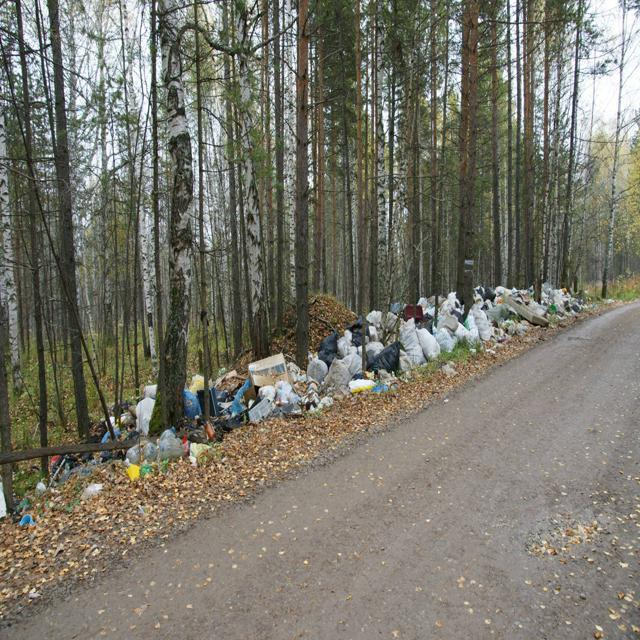lixeira: (97, 377, 232, 463), (316, 321, 447, 383), (233, 358, 335, 419), (390, 300, 504, 352), (491, 280, 590, 328), (44, 444, 110, 488)
